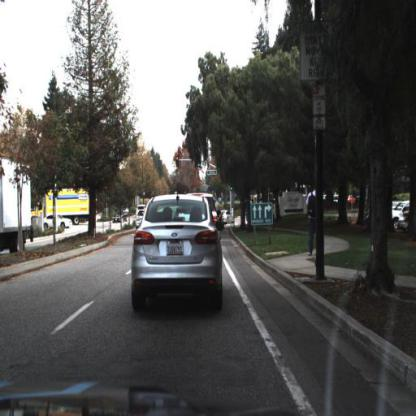car: (131, 191, 226, 313), (207, 193, 221, 231), (43, 215, 74, 228), (112, 211, 129, 224), (115, 211, 127, 227), (136, 213, 146, 231)
pedestrian: (307, 183, 317, 262)
trafficLight: (176, 157, 180, 168)
trafficLight-RedLeft: (174, 157, 182, 173)
truck: (32, 189, 92, 223)
